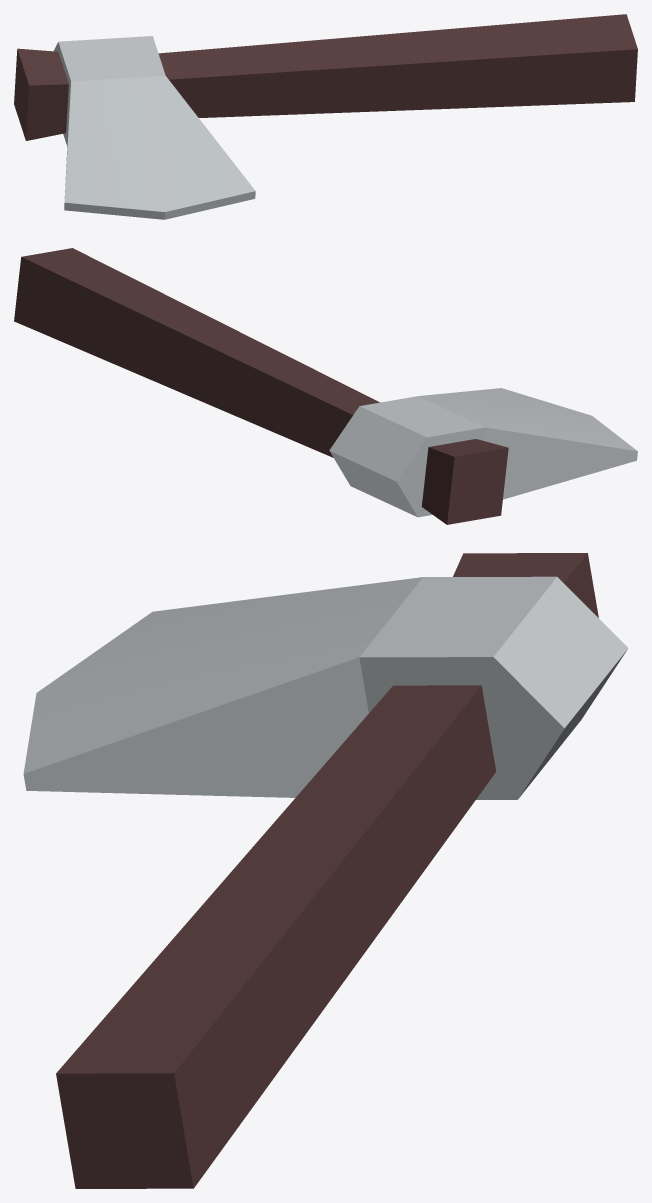
File: AxeHead.fbx
3 views of the same model, one above another, from view 1: azimuth 30°, elevation 25°; view 2: azimuth 150°, elevation 25°; view 3: azimuth 270°, elevation 25° (orthographic). The views are drawn at different scales.
Visible parts, largest first — view 1: AxeHandle, AxeHead; view 2: AxeHandle, AxeHead; view 3: AxeHandle, AxeHead.
Boxes of the visible parts, x1,y1,x2,y2 form: AxeHandle: (14, 14, 637, 145); AxeHead: (64, 75, 255, 219); AxeHandle: (14, 248, 508, 524); AxeHead: (418, 388, 637, 499); AxeHandle: (56, 553, 628, 1188); AxeHead: (23, 577, 422, 797).
Size of what is drawn, in the model's own units: 146 by 20.46 by 67.19.
